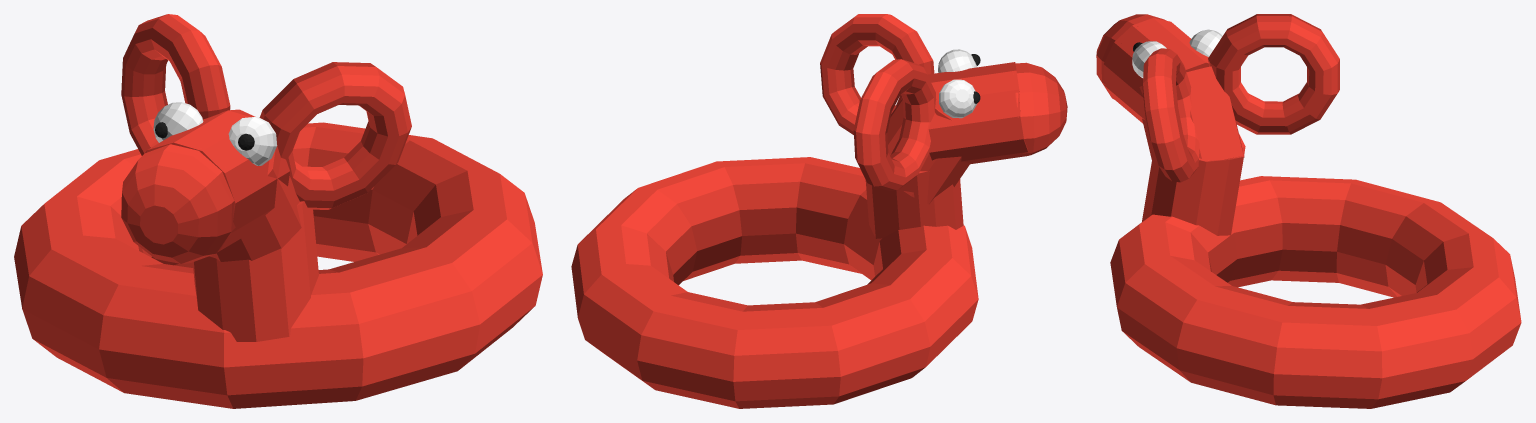
Rendered from tube_flamingo.glb.
3 views of the same model, side by side, from view 1: azimuth 30°, elevation 25°; view 2: azimuth 150°, elevation 25°; view 3: azimuth 270°, elevation 25° (orthographic). The views are drawn at different scales.
Visible parts, largest first — view 1: group1128786684, group72208816, group829897594, group1815500339, group1916845417, group1577811230, group1723809170, group1640857079, group299848747; view 2: group1128786684, group1916845417, group1577811230, group72208816, group1815500339, group829897594, group1723809170, group299848747, group1640857079; view 3: group1128786684, group1916845417, group72208816, group1815500339, group1577811230, group1723809170, group829897594, group299848747, group1640857079.
Part boxes in pixels (x1,y1,x2,y2): group1128786684: (14,122,542,408); group72208816: (259,62,411,209); group829897594: (121,144,235,263); group1815500339: (192,201,318,341); group1916845417: (121,14,230,155); group1577811230: (145,110,289,251); group1723809170: (209,109,301,261); group1640857079: (228,117,277,165); group299848747: (153,102,203,142); group1128786684: (571,157,978,408); group1916845417: (853,59,936,191); group1577811230: (927,62,1028,164); group72208816: (820,14,934,134); group1815500339: (865,171,963,238); group829897594: (1010,62,1067,155); group1723809170: (887,98,970,204); group299848747: (939,79,977,118); group1640857079: (938,49,976,72); group1128786684: (1110,176,1521,408); group1916845417: (1208,14,1339,134); group72208816: (1142,48,1199,182); group1815500339: (1142,134,1245,235); group1577811230: (1103,18,1209,123); group1723809170: (1139,66,1244,161); group829897594: (1096,14,1165,100); group299848747: (1189,29,1222,56); group1640857079: (1132,41,1166,77).
Bounding box in the file's own units: 1.64 × 1.18 × 1.59.
